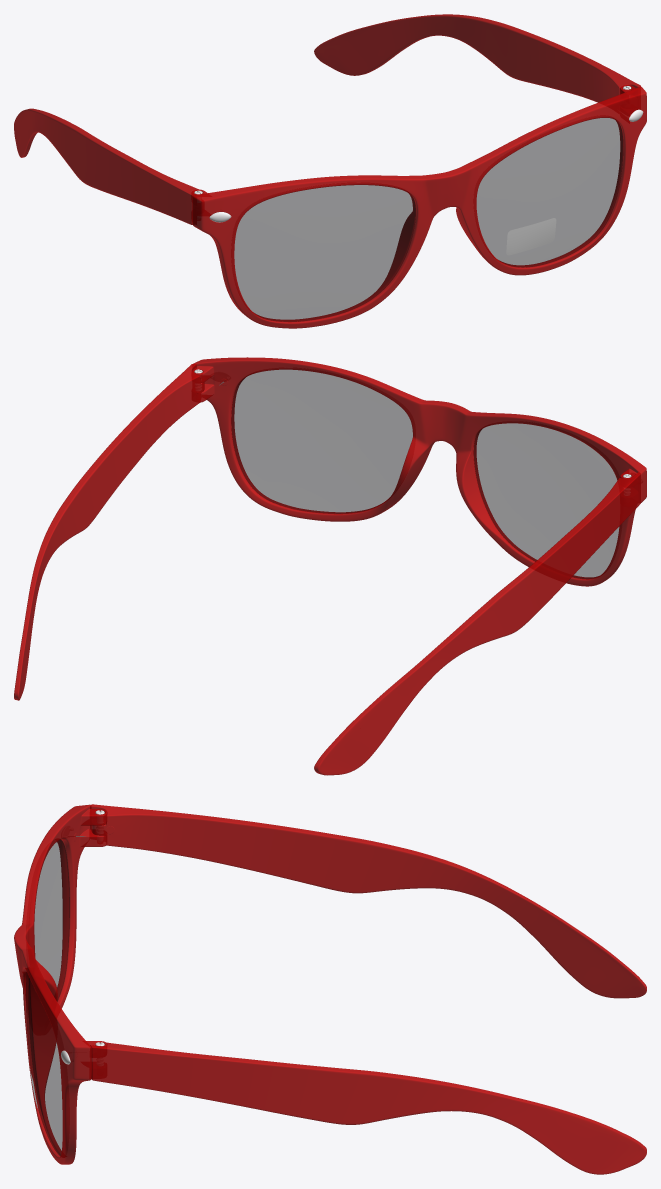
3 views of the same model, one above another, from view 1: azimuth 30°, elevation 25°; view 2: azimuth 150°, elevation 25°; view 3: azimuth 270°, elevation 25° (orthographic). The views are drawn at different scales.
Visible parts, largest first — view 1: group8_pasted__polySurface54, group8_pasted__pSphere29, group8_pasted__polySurface56, group8_pasted__polySurface57, group8_polySurface10; view 2: group8_pasted__polySurface54, group8_pasted__pSphere29, group8_pasted__polySurface57, group8_pasted__polySurface56; view 3: group8_pasted__polySurface56, group8_pasted__polySurface57, group8_pasted__pSphere29, group8_pasted__polySurface54.
Part boxes in pixels (left/top/right/bottom): group8_pasted__polySurface54: left=234, top=118, right=623, bottom=321; group8_pasted__pSphere29: left=192, top=85, right=646, bottom=328; group8_pasted__polySurface56: left=314, top=14, right=640, bottom=102; group8_pasted__polySurface57: left=14, top=108, right=198, bottom=224; group8_polySurface10: left=506, top=218, right=556, bottom=255; group8_pasted__polySurface54: left=231, top=369, right=619, bottom=579; group8_pasted__pSphere29: left=192, top=357, right=646, bottom=586; group8_pasted__polySurface57: left=314, top=472, right=640, bottom=775; group8_pasted__polySurface56: left=14, top=364, right=204, bottom=700; group8_pasted__polySurface56: left=90, top=1042, right=646, bottom=1174; group8_pasted__polySurface57: left=90, top=804, right=646, bottom=998; group8_pasted__pSphere29: left=14, top=804, right=107, bottom=1164; group8_pasted__polySurface54: left=25, top=840, right=69, bottom=1156.
Size of the model in its own units: 14.32 by 4.61 by 15.75.
